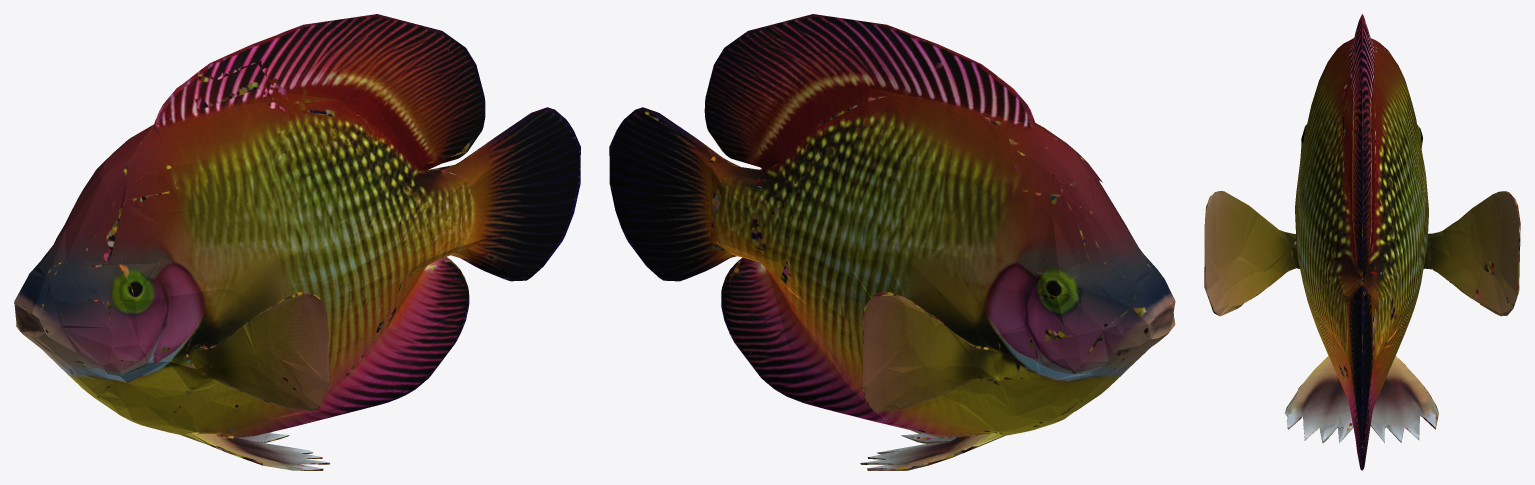
Rendered from fish_0065_smpl23_resized.glb.
3 renders of one model, left to right at view 1: azimuth 30°, elevation 25°; view 2: azimuth 150°, elevation 25°; view 3: azimuth 270°, elevation 25°, orthographic. The views are drawn at different scales.
Parts seen in each view (by area): view 1: world; view 2: world; view 3: world.
Part boxes in pixels (x1,y1,x2,y2): world: (14, 14, 580, 470); world: (609, 14, 1175, 470); world: (1204, 14, 1520, 470).
Bounding box in the file's own units: 1.99 × 1.42 × 1.01.
Materials: 1 (1 with a texture image).
